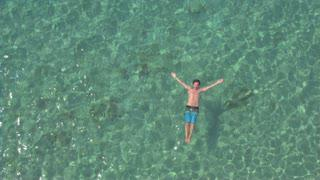swimmer: (170, 70, 225, 144)
